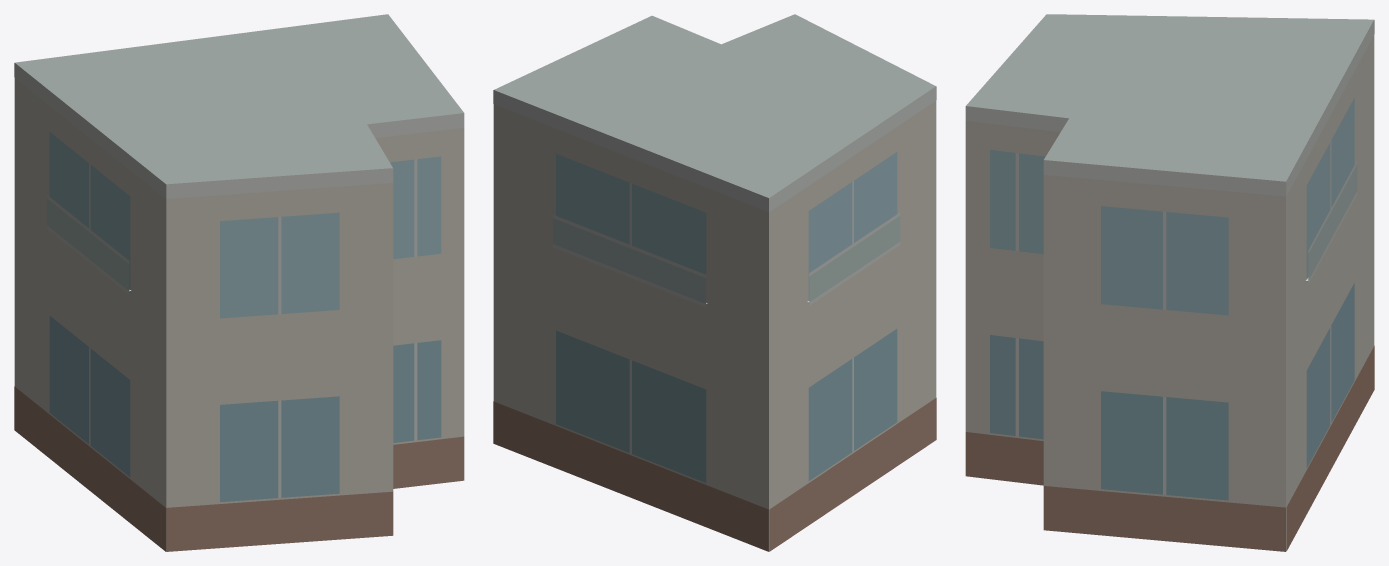
The model's file is survey-upis-32758822.glb.
3 renders of one model, left to right at view 1: azimuth 30°, elevation 25°; view 2: azimuth 150°, elevation 25°; view 3: azimuth 270°, elevation 25°, orthographic. The views are drawn at different scales.
Visible parts, largest first — view 1: survey-upis-32758822.tmp; view 2: survey-upis-32758822.tmp; view 3: survey-upis-32758822.tmp.
Part boxes in pixels (<box>): survey-upis-32758822.tmp: <box>14,14,464,551</box>; survey-upis-32758822.tmp: <box>493,14,936,551</box>; survey-upis-32758822.tmp: <box>965,14,1374,551</box>.
Size of the model in its own units: 5.93 by 6.1 by 6.11.
